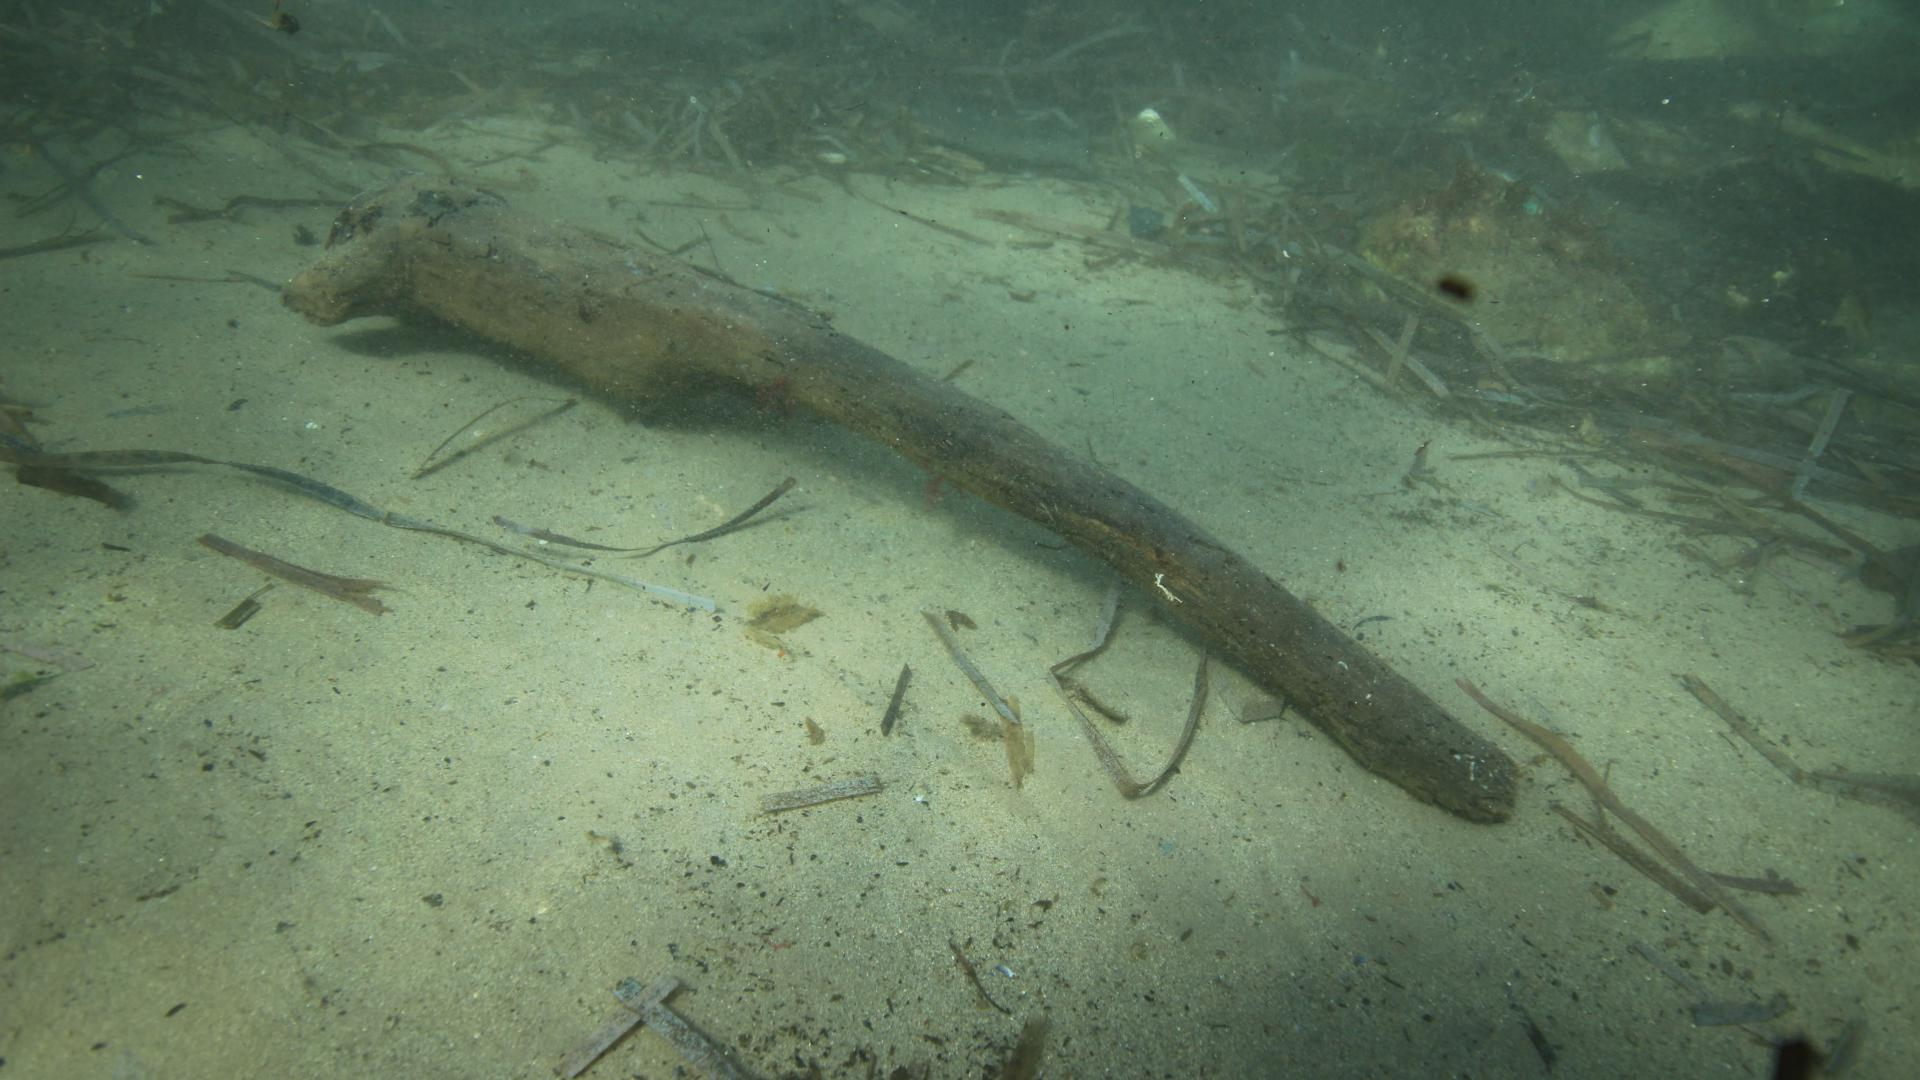wood: (280, 173, 1523, 825)
